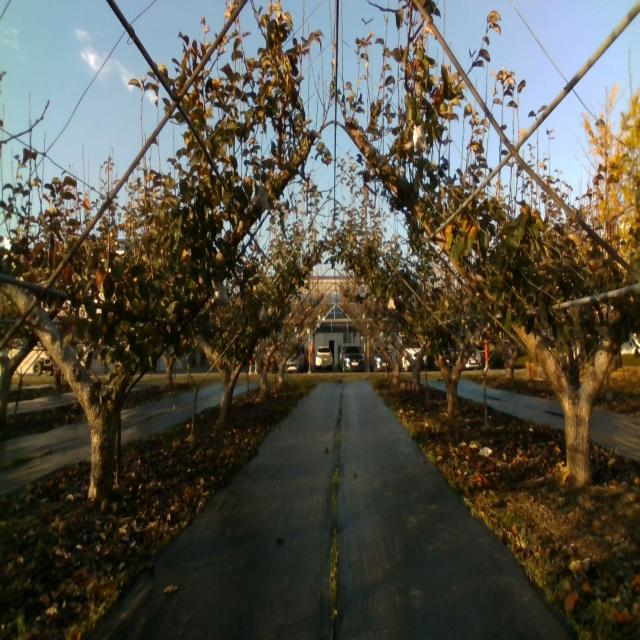pearbags: (211, 280, 229, 304), (412, 125, 427, 152), (253, 185, 269, 210)
